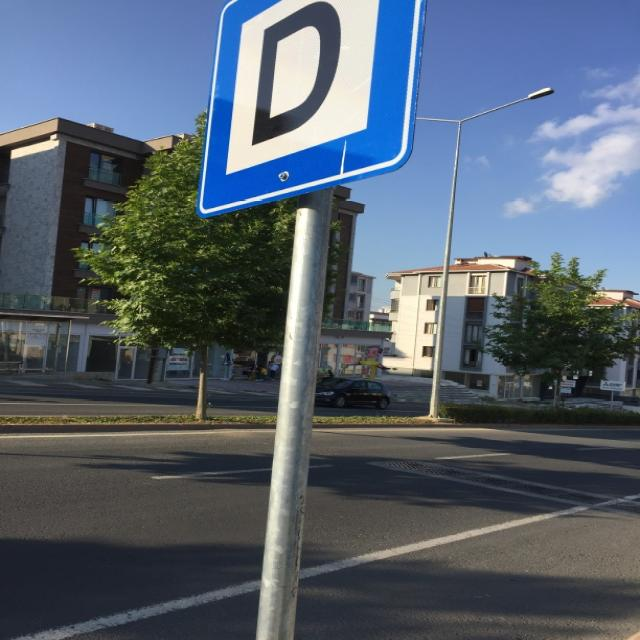durak: (195, 2, 416, 218)
